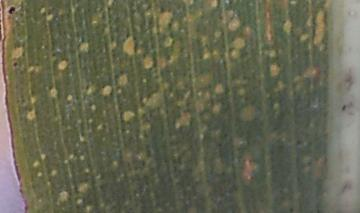tarspot: (7, 4, 17, 15), (12, 60, 19, 68), (288, 206, 294, 213), (296, 139, 303, 145)
